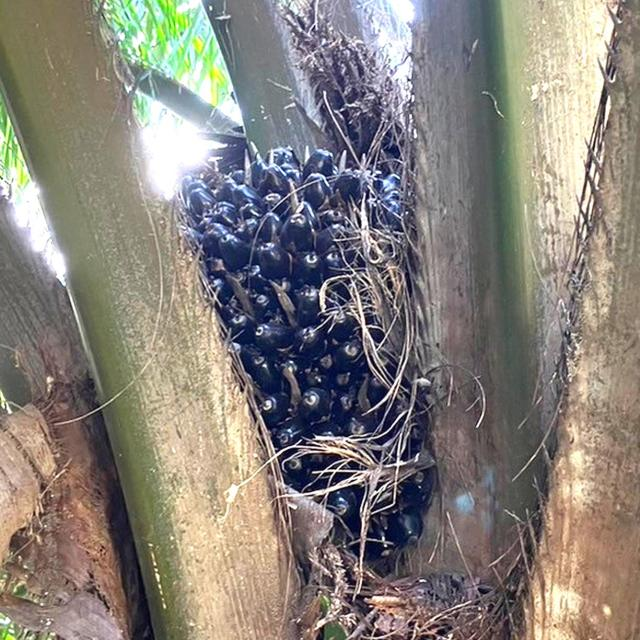unripe: (172, 150, 424, 516)
